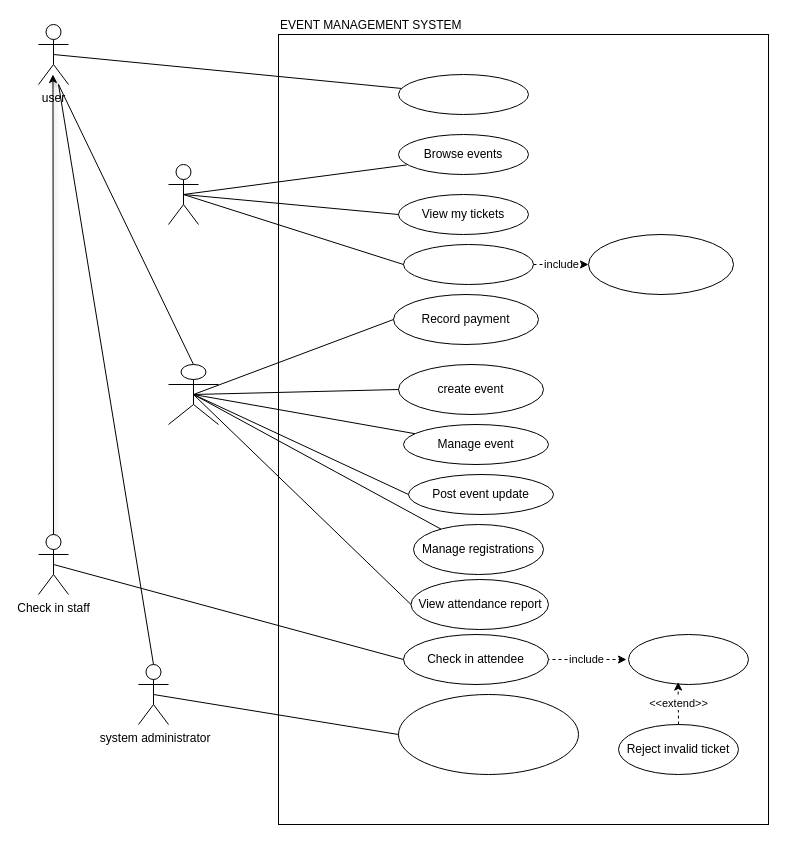
This 786x842 diagram has some shape labels left out. Here are the shapes that lost their labels. From the top down, the centre of each, then its label:
At point 463,94: "log in".
At point 183,194: "attendee".
At point 468,264: "Register for event".
At point 661,264: "Issue ticket".
At point 193,394: "Organizer".
At point 688,659: "Vlidate ticket".
At point 488,734: "Mnage users and roles".
